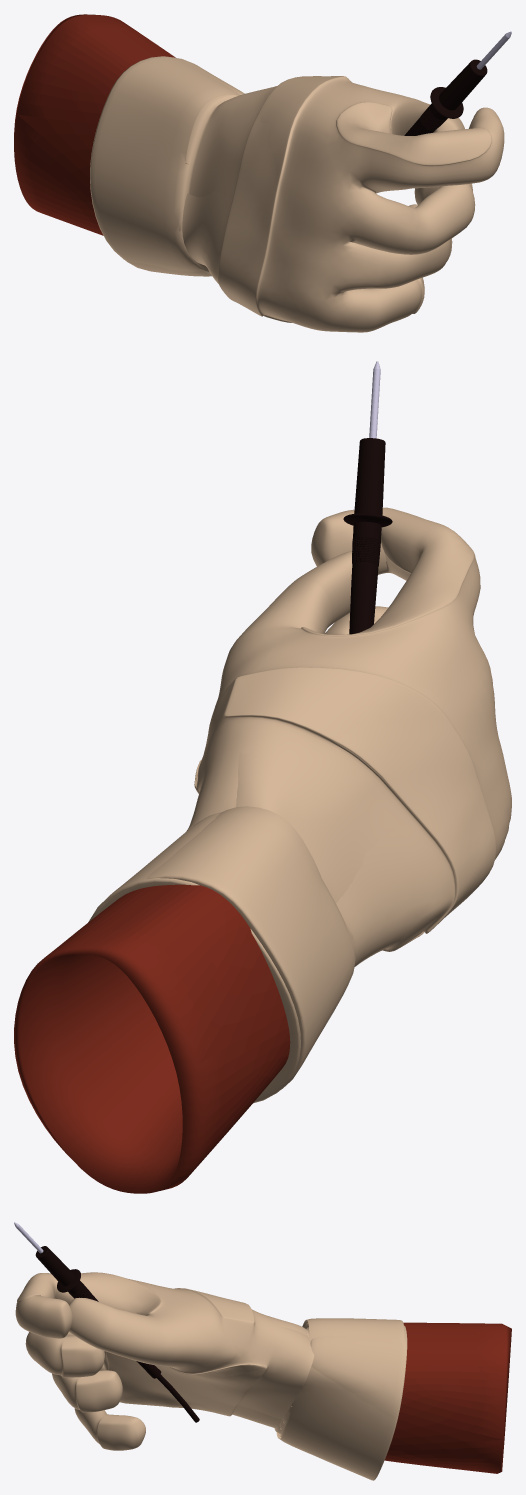
File: gloves-with-multimeter-black.fbx
3 renders of one model, top to bottom at view 1: azimuth 30°, elevation 25°; view 2: azimuth 150°, elevation 25°; view 3: azimuth 270°, elevation 25°, orthographic. The views are drawn at different scales.
Parts seen in each view (by area): view 1: WorkGloves_RightWorkGloves.001, gloves.001_Cube.000, Tube002; view 2: WorkGloves_RightWorkGloves.001, gloves.001_Cube.000, Tube002; view 3: WorkGloves_RightWorkGloves.001, gloves.001_Cube.000, Tube002.
Part boxes in pixels (<box>): WorkGloves_RightWorkGloves.001: <box>90,56,504,332</box>; gloves.001_Cube.000: <box>14,14,186,235</box>; Tube002: <box>404,31,511,135</box>; WorkGloves_RightWorkGloves.001: <box>88,507,511,1103</box>; gloves.001_Cube.000: <box>14,884,290,1193</box>; Tube002: <box>343,361,392,634</box>; WorkGloves_RightWorkGloves.001: <box>15,1272,407,1480</box>; gloves.001_Cube.000: <box>384,1322,511,1473</box>; Tube002: <box>14,1222,199,1422</box>.
Size of the model in its own units: 397 by 724 by 1122.
